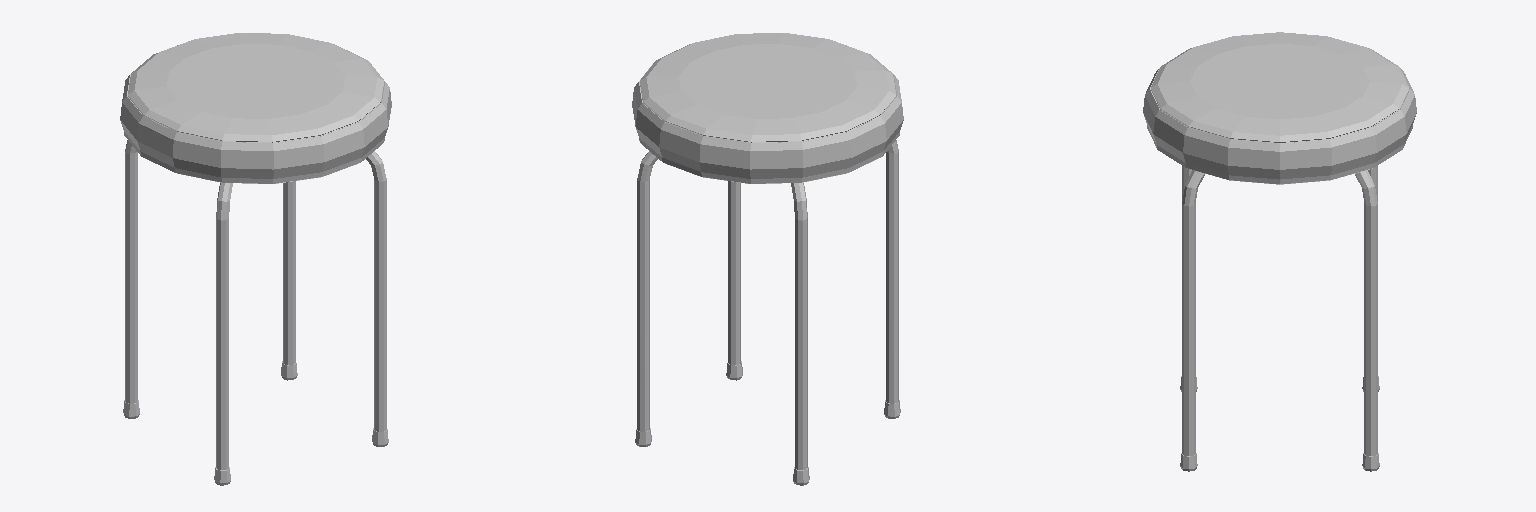
File: chair.obj
The picture shows the model from 3 angles: view 1: azimuth 30°, elevation 25°; view 2: azimuth 150°, elevation 25°; view 3: azimuth 270°, elevation 25°; orthographic projection.
Parts seen in each view (by area): view 1: cushion, legs, leg caps; view 2: cushion, legs, leg caps; view 3: cushion, legs, leg caps.
Part boxes in pixels (left/top/right/bottom): cushion: left=120, top=33, right=391, bottom=183; legs: left=125, top=140, right=386, bottom=469; leg caps: left=123, top=361, right=388, bottom=485; cushion: left=632, top=33, right=903, bottom=183; legs: left=637, top=140, right=898, bottom=469; leg caps: left=635, top=361, right=900, bottom=485; cushion: left=1143, top=32, right=1416, bottom=184; legs: left=1182, top=166, right=1377, bottom=455; leg caps: left=1180, top=376, right=1379, bottom=471.
Bounding box in the file's own units: 0.5011 × 0.7037 × 0.5011.